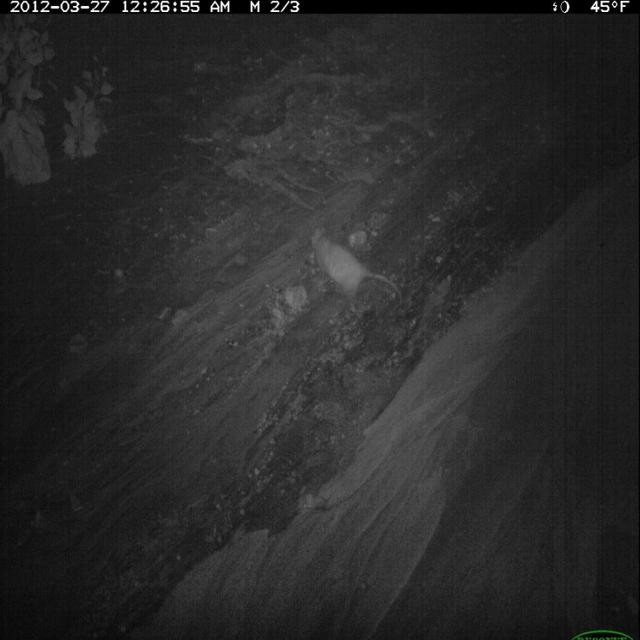opossum: (309, 219, 406, 309)
